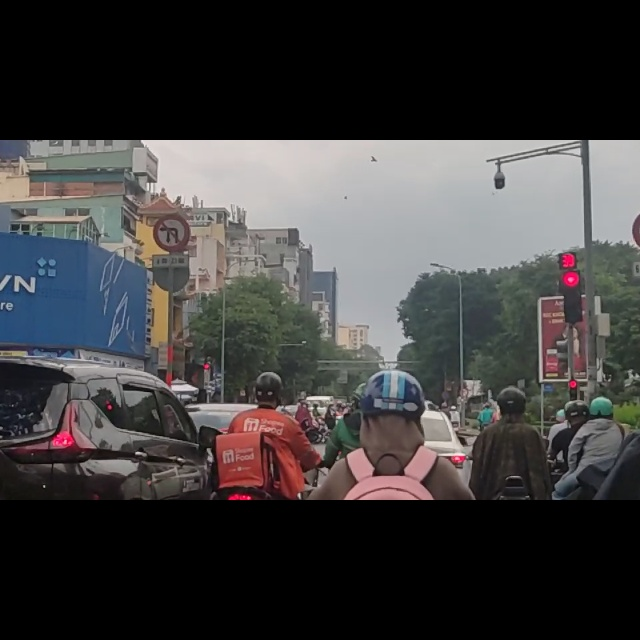bien_cam: (152, 129, 189, 198)
